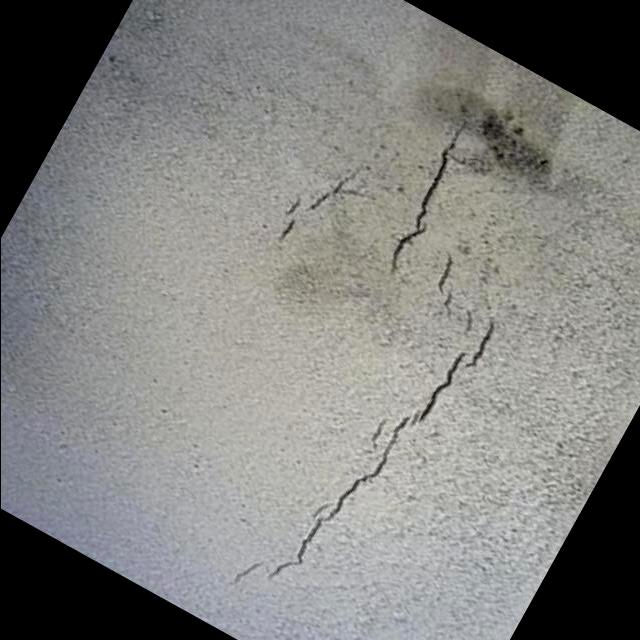defect: (227, 250, 498, 585), (386, 116, 470, 274), (270, 172, 352, 245)
